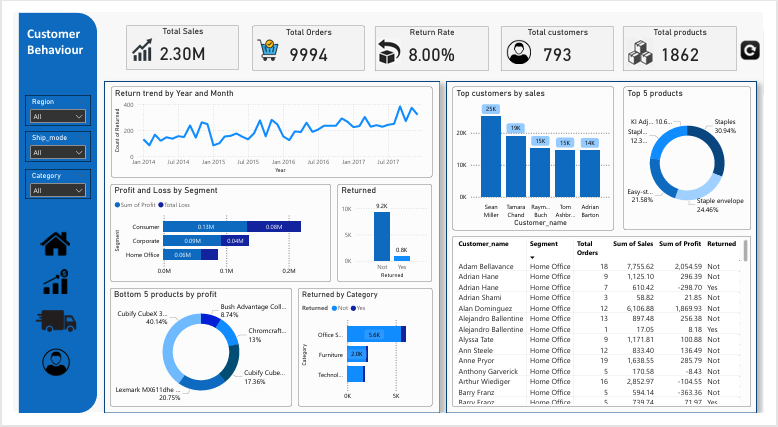

Layout of this report page (visuals, bound fields, positions):
{"tool":"powerbi","page":{"name":"Customer behaviour","canvas":[1500,800],"ordinal":3},"visuals":[{"type":"shape","box":[9.7,0,156,800],"z":0},{"type":"shape","box":[864.5,137.1,621,662.9],"z":1000},{"type":"textbox","box":[21,21,145.2,116.1],"z":2000},{"type":"card","title":"Return Rate","fields":{"Values":["Retail_Sales.Return_Rate"]},"box":[722.3,26.8,226.3,88.8],"z":3000},{"type":"card","title":"Total customers","fields":{"Values":["Retail_Sales.Customer_id"]},"box":[973.7,26.8,226.3,88.8],"z":4000},{"type":"shape","box":[180.6,137.1,671,662.9],"z":5000},{"type":"card","title":"Total Sales","fields":{"Values":["Retail_Sales.Sales"]},"box":[224.6,25.1,224.6,88.8],"z":6000},{"type":"image","box":[224.6,38.5,62,67],"z":7000},{"type":"columnChart","title":"Top customers by sales","fields":{"Category":["Retail_Sales.Customer_name"],"Y":["Retail_Sales.Sales"]},"box":[877.4,146.8,322.6,288.7],"z":8000},{"type":"donutChart","title":"Bottom 5 products by profit","fields":{"Category":["Retail_Sales.Product_name"],"Y":["Retail_Sales.Profit"]},"box":[191.9,550,364.5,237.1],"z":9000},{"type":"lineChart","title":"Return trend by Year and Month","fields":{"Category":["Date_Table.Date.Variation.Date Hierarchy.Year","Date_Table.Date.Variation.Date Hierarchy.Month"],"Y":["Retail_Sales.Returned"]},"box":[193.5,146.8,643.5,182.3],"z":10000},{"type":"donutChart","title":"Top 5 products","fields":{"Category":["Retail_Sales.Product_name"],"Y":["Retail_Sales.Quantity"]},"box":[1219.4,146.8,254.8,287.1],"z":11000},{"type":"columnChart","title":" Returned","fields":{"Category":["Retail_Sales.Returned"],"Y":["Retail_Sales.Total Orders"]},"box":[646.9,341.9,189.4,196.1],"z":12000},{"type":"barChart","title":"Profit and Loss by Segment","fields":{"Category":["Retail_Sales.Segment"],"Y":["Retail_Sales.Profit","Retail_Sales.Total Loss"]},"box":[192.7,341.9,440.8,196.1],"z":13000},{"type":"barChart","title":"Returned by Category ","fields":{"Category":["Retail_Sales.Category"],"Y":["Retail_Sales.Returned"],"Series":["Retail_Sales.Returned"]},"box":[567.7,550,269.4,237.1],"z":14000},{"type":"tableEx","fields":{"Values":["Retail_Sales.Customer_name","Retail_Sales.Segment","Retail_Sales.Total Orders","Retail_Sales.Sales","Retail_Sales.Profit","Retail_Sales.Returned"]},"box":[877.4,446.8,596.8,340.3],"z":15000},{"type":"image","box":[973.7,46.9,72.1,62],"z":16000},{"type":"image","box":[722.3,43.6,57,65.4],"z":17000},{"type":"image","box":[1220.1,46.9,65.4,63.7],"z":18000},{"type":"slicer","fields":{"Values":["Retail_Sales.Region"]},"box":[21.8,164.2,132.4,62],"z":19000},{"type":"slicer","fields":{"Values":["Retail_Sales.Ship_mode"]},"box":[21.8,236.3,132.4,62],"z":20000},{"type":"slicer","fields":{"Values":["Retail_Sales.Category"]},"box":[21.8,311.7,132.4,60.3],"z":21000},{"type":"image","box":[1445.2,27.4,54.8,93.5],"z":22000},{"type":"card","title":"Total Orders","fields":{"Values":["Retail_Sales.Total Orders"]},"box":[476,25.1,226.3,90.5],"z":23000},{"type":"image","box":[476,46.9,62,55.3],"z":24000},{"type":"card","title":"Total products","fields":{"Values":["Retail_Sales.Product_id"]},"box":[1218.4,26.8,226.3,88.8],"z":25000},{"type":"image","box":[43.6,427.4,78.8,68.7],"z":26000},{"type":"image","box":[52,507.8,63.7,60.3],"z":27000},{"type":"image","box":[35.2,568.2,97.2,95.5],"z":28000},{"type":"image","box":[48.6,663.7,70.4,68.7],"z":29000}]}

Visuals, with their boxes in screenshot pixels (x1, y1, x2, y2), scaled from the page's 1500x800 canvas onto the 778x427 screenshot:
shape: (5,0,86,426)
shape: (448,73,770,426)
textbox: (11,11,86,73)
"Return Rate" card: (375,14,492,62)
"Total customers" card: (505,14,622,62)
shape: (94,73,442,426)
"Total Sales" card: (116,13,233,61)
image: (116,21,149,56)
"Top customers by sales" columnChart: (455,78,622,232)
"Bottom 5 products by profit" donutChart: (100,294,289,420)
"Return trend by Year and Month" lineChart: (100,78,434,176)
"Top 5 products" donutChart: (632,78,765,232)
" Returned" columnChart: (336,182,434,287)
"Profit and Loss by Segment" barChart: (100,182,329,287)
"Returned by Category " barChart: (294,294,434,420)
tableEx - Retail_Sales.Customer_name x Retail_Sales.Segment: (455,238,765,420)
image: (505,25,542,58)
image: (375,23,404,58)
image: (633,25,667,59)
slicer - Retail_Sales.Region: (11,88,80,121)
slicer - Retail_Sales.Ship_mode: (11,126,80,159)
slicer - Retail_Sales.Category: (11,166,80,199)
image: (750,15,777,65)
"Total Orders" card: (247,13,364,62)
image: (247,25,279,55)
"Total products" card: (632,14,749,62)
image: (23,228,63,265)
image: (27,271,60,303)
image: (18,303,69,354)
image: (25,354,62,391)
